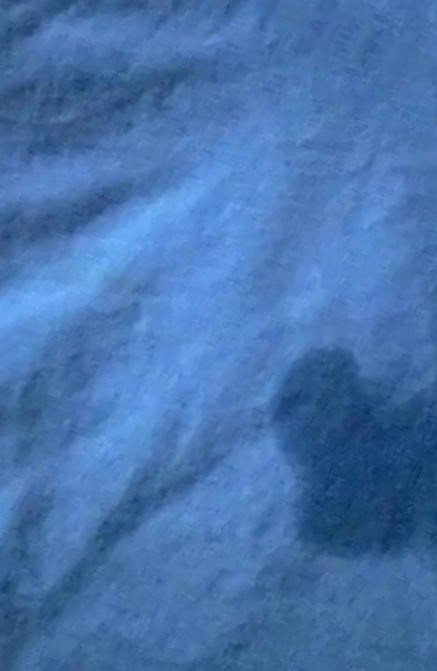stain: (253, 339, 437, 577)
